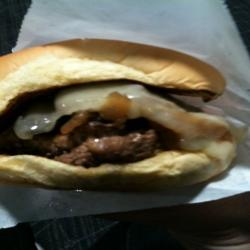burger: (1, 34, 245, 202)
